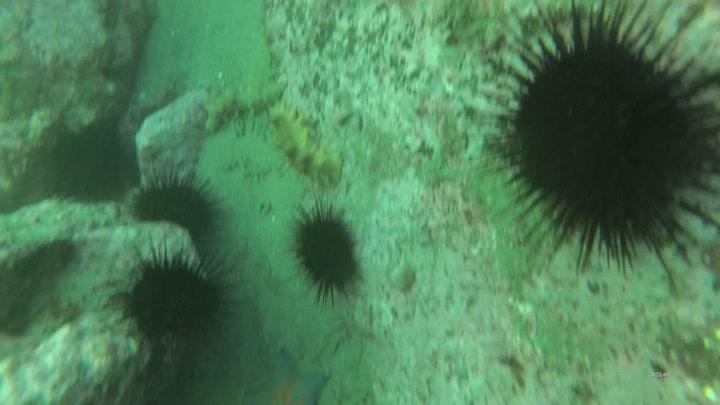urchin: (486, 26, 715, 282), (125, 258, 240, 364), (138, 177, 241, 243), (292, 209, 368, 298), (62, 119, 138, 203)
